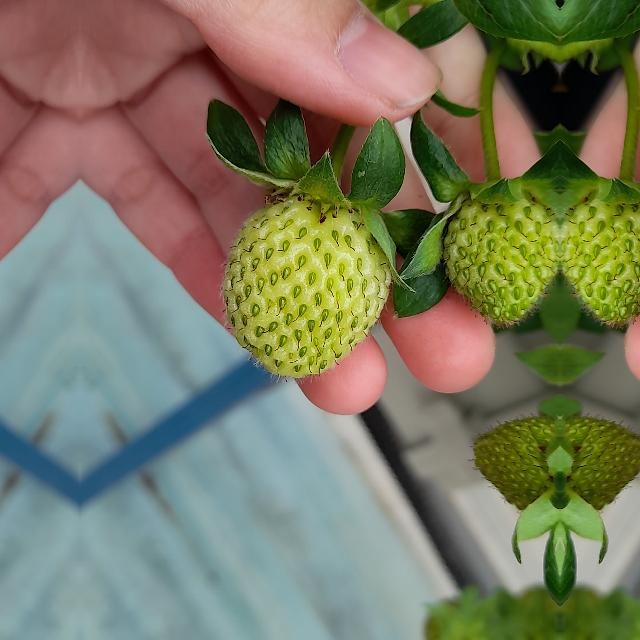Health_25: (222, 193, 392, 377), (434, 171, 560, 323), (560, 171, 640, 323), (476, 401, 560, 495), (560, 401, 640, 495)
